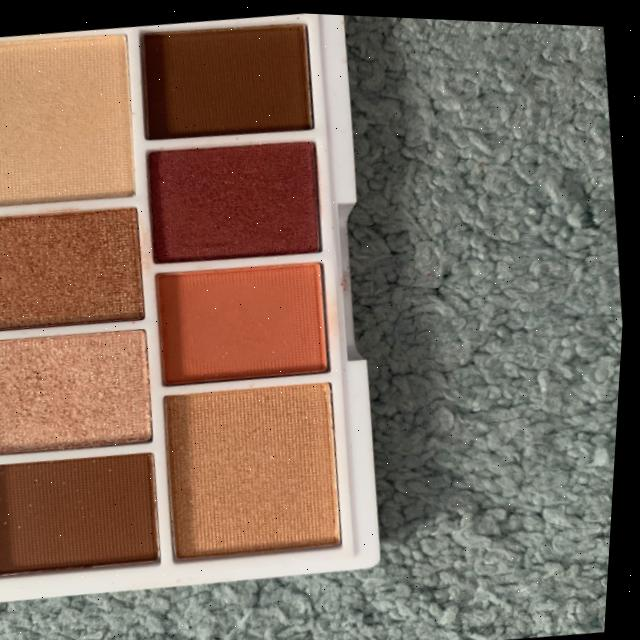eye shade: (0, 0, 380, 614)
